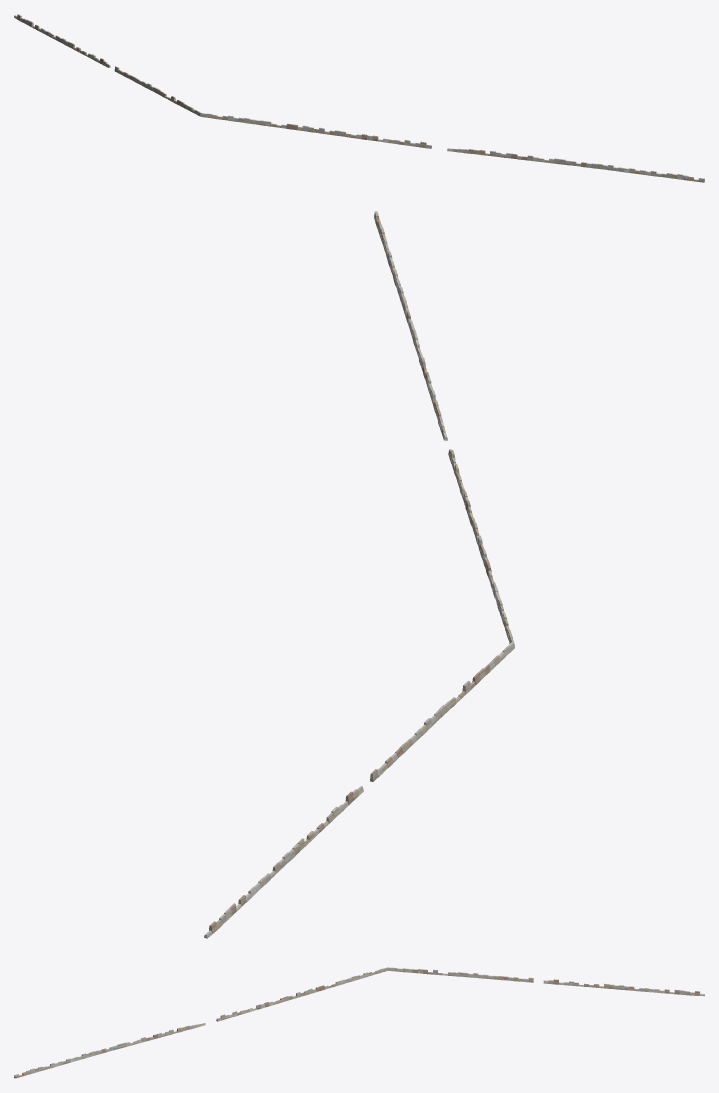
File: farm_-11_8_mid.glb
The picture shows the model from 3 angles, top to bottom: view 1: azimuth 30°, elevation 25°; view 2: azimuth 150°, elevation 25°; view 3: azimuth 270°, elevation 25°; orthographic projection. The views are drawn at different scales.
Parts seen in each view (by area): view 1: geometry_0; view 2: geometry_0; view 3: geometry_0.
Boxes of the visible parts, <box> form: geometry_0: <box>14,14,704,182</box>; geometry_0: <box>204,211,514,938</box>; geometry_0: <box>14,967,704,1078</box>.
Bounding box in the file's own units: 94.99 × 16.56 × 217.
